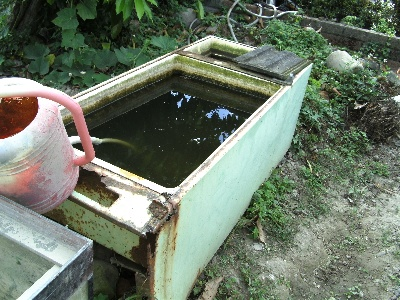box: (41, 35, 313, 300)
bucket: (1, 77, 80, 215)
